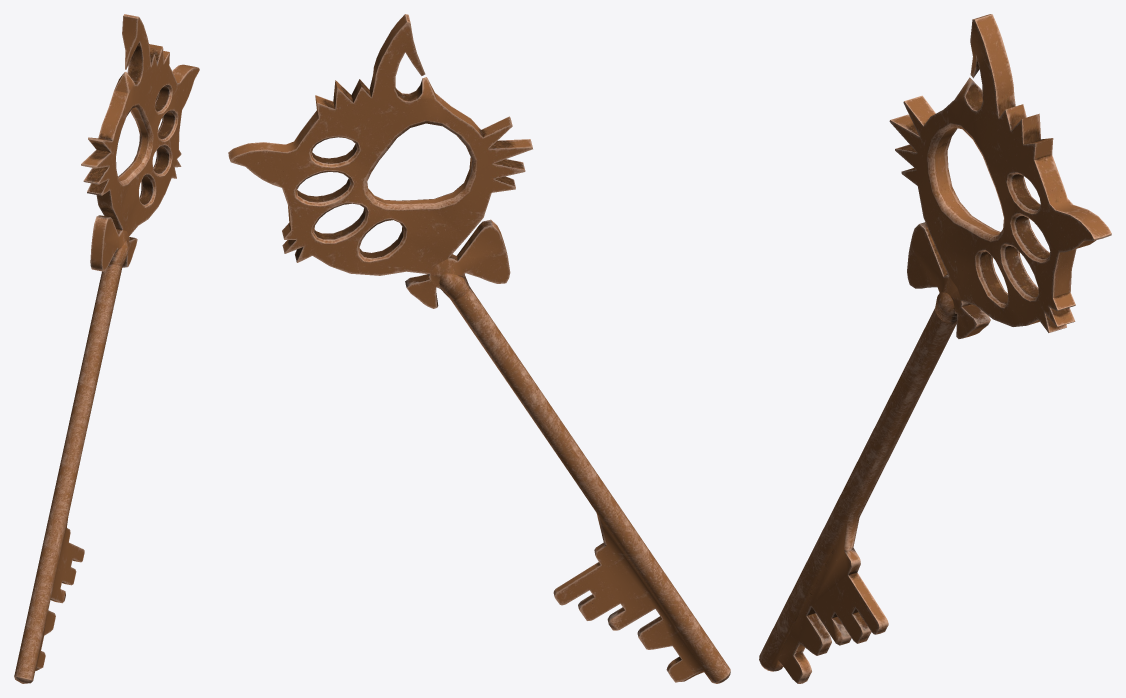
Rendered from kitty_key.glb.
The picture shows the model from 3 angles, left to right: view 1: azimuth 30°, elevation 25°; view 2: azimuth 150°, elevation 25°; view 3: azimuth 270°, elevation 25°; orthographic projection. The views are drawn at different scales.
Visible parts, largest first — view 1: cat_key; view 2: cat_key; view 3: cat_key.
Part boxes in pixels (x1=…): cat_key: x1=14, y1=14, x2=199, y2=683; cat_key: x1=228, y1=14, x2=730, y2=683; cat_key: x1=759, y1=14, x2=1111, y2=683.
Size of the model in its own units: 48.99 by 88.01 by 36.28.
1 material, 1 textured.
